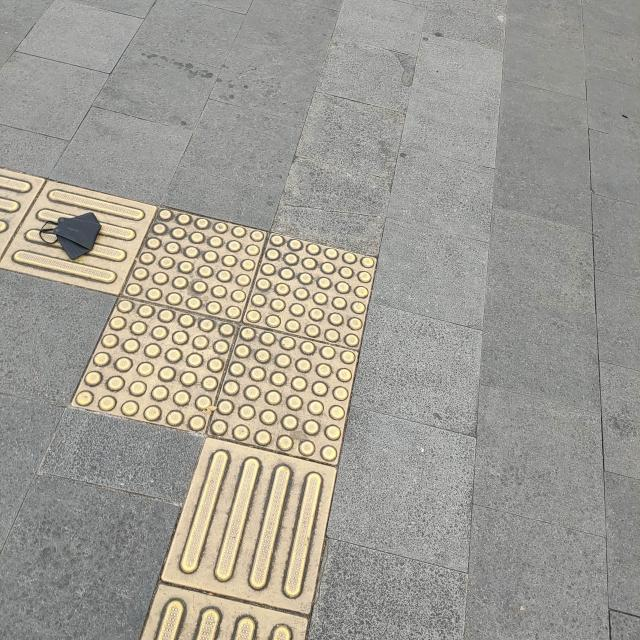kiri: (0, 151, 419, 531)
